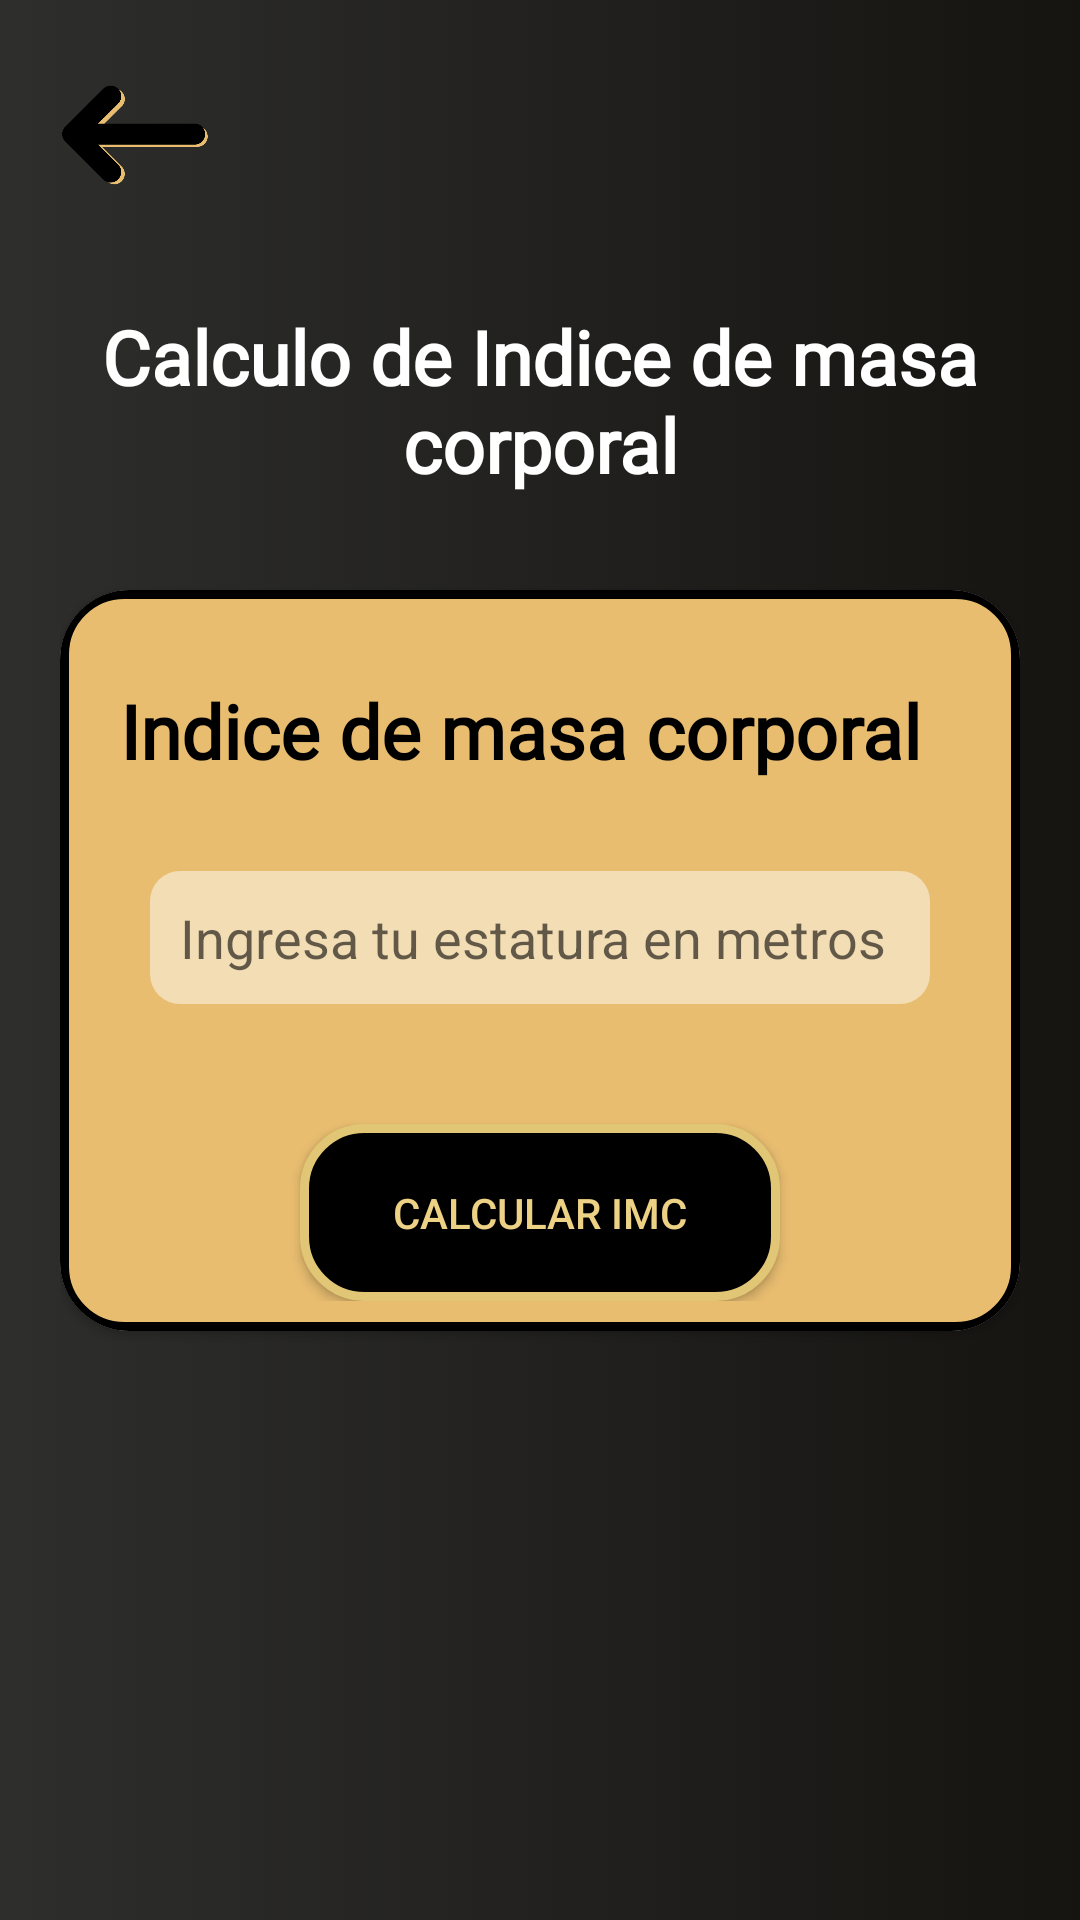

Screen size 1080px x 1920px. Icon name, then its box in pixels as (x1, y1, x2, y2):
flechanegrodorado: (62, 86, 208, 185)
